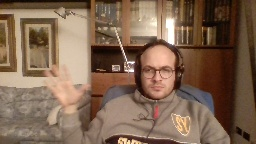Mano_aperta: (40, 61, 91, 107)
